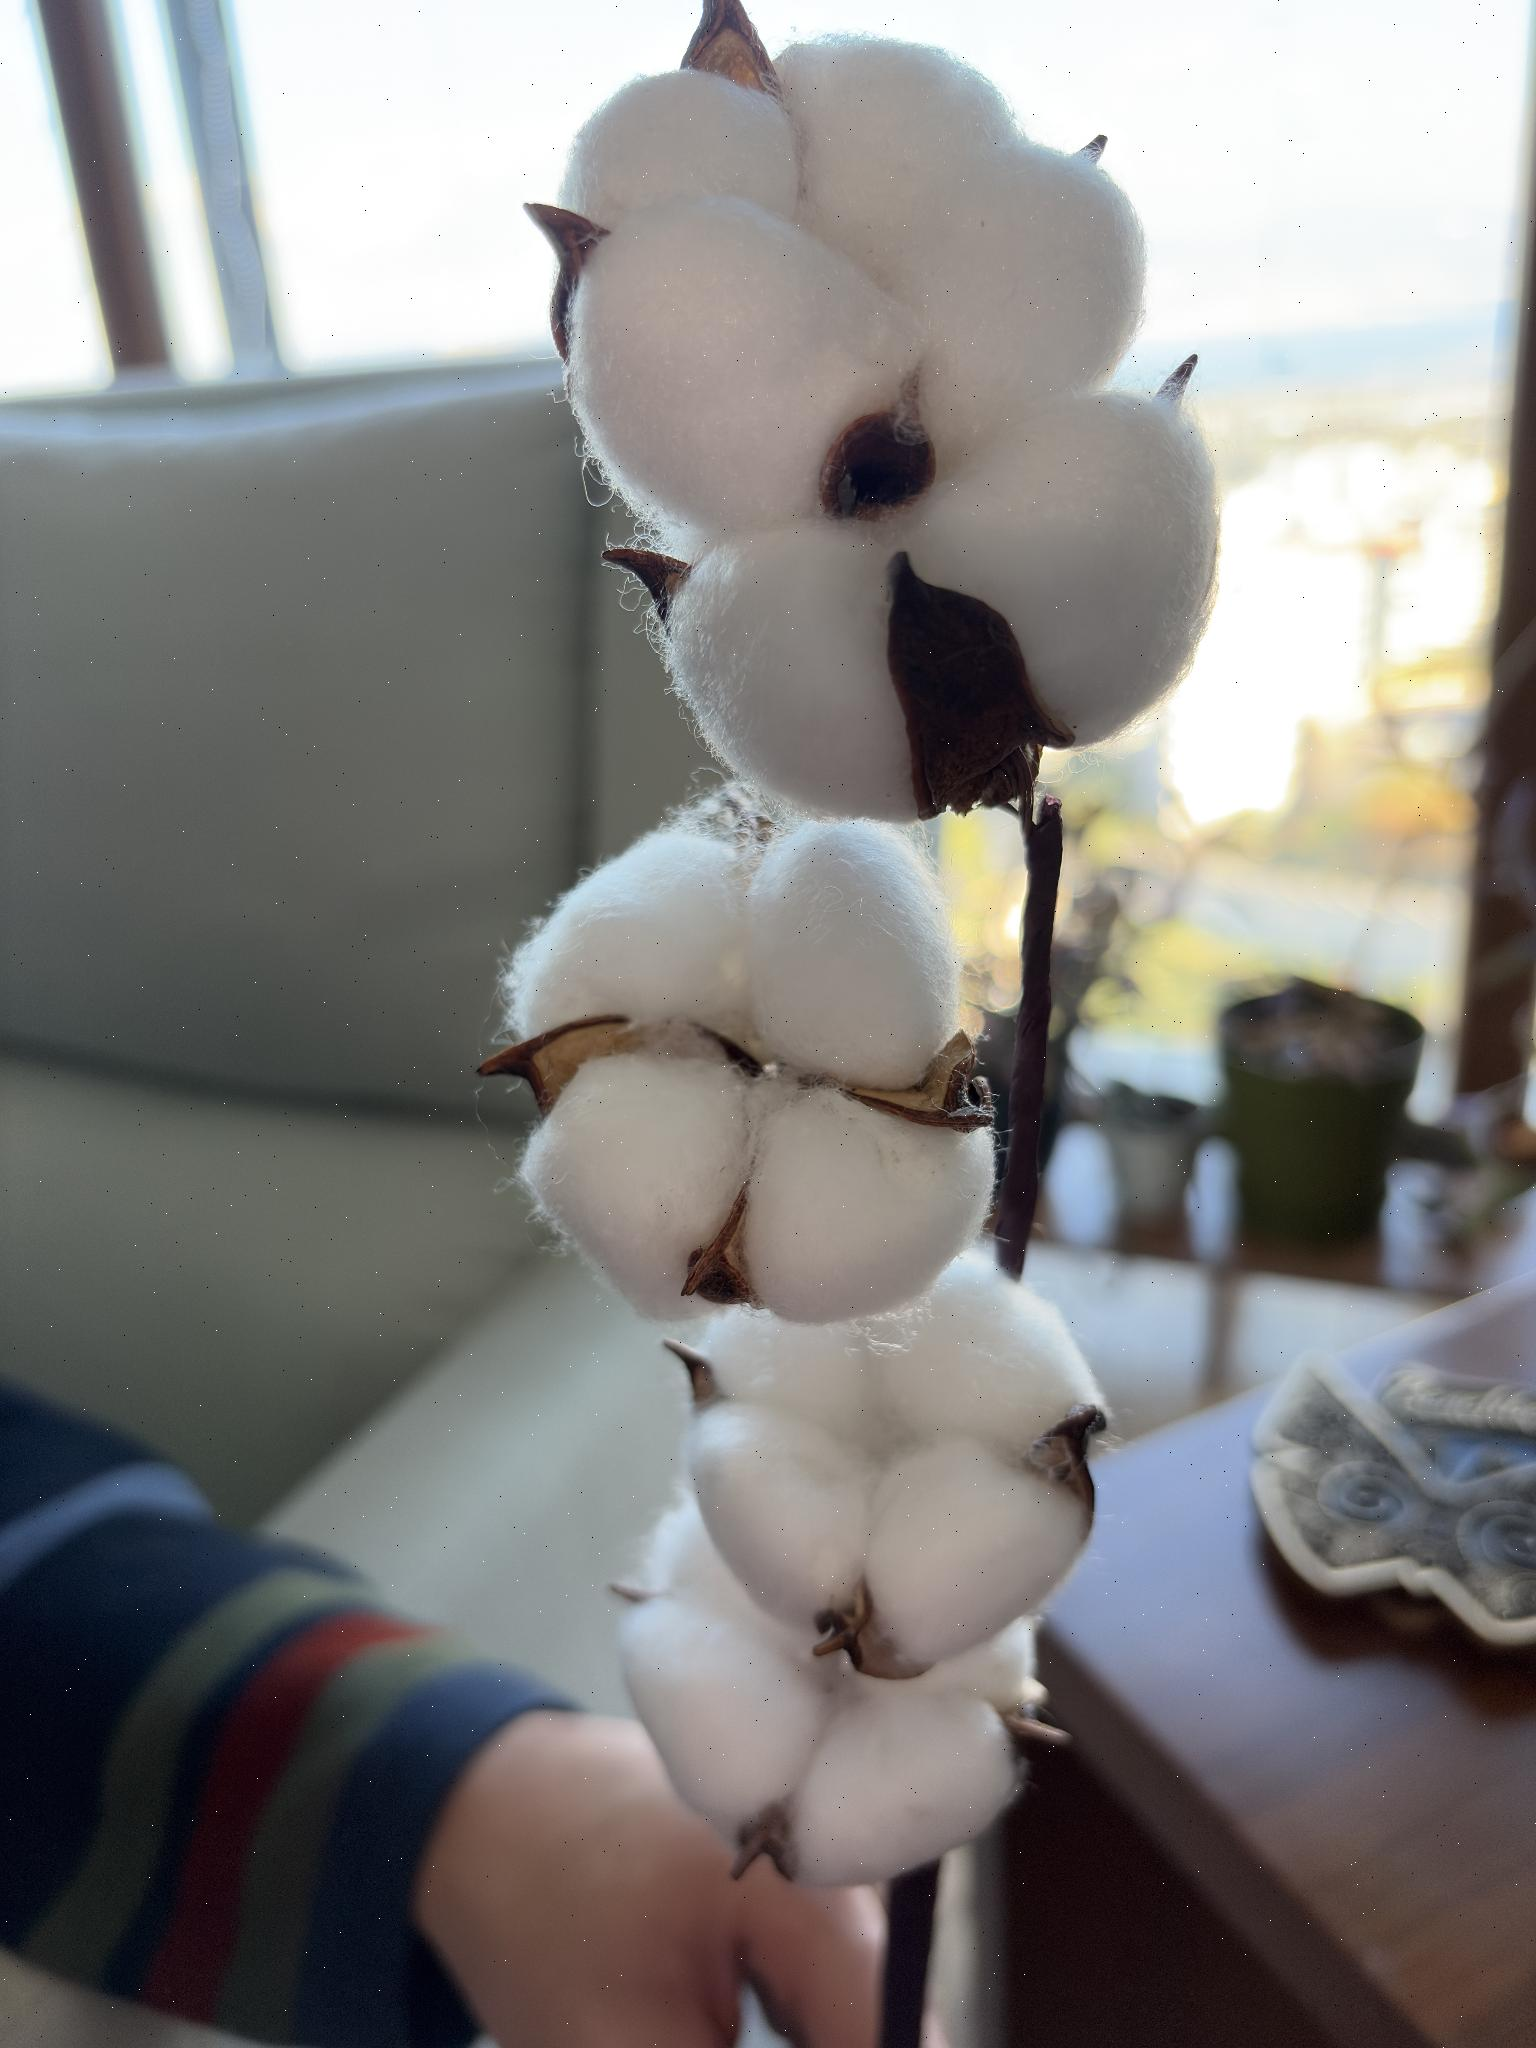cotton_boll: (570, 198, 916, 552), (907, 393, 1217, 743), (891, 140, 1144, 472), (665, 519, 918, 822), (620, 1503, 829, 1842), (523, 1055, 750, 1321), (776, 35, 1015, 289), (744, 1087, 992, 1322), (747, 821, 958, 1090), (866, 1437, 1089, 1663), (505, 830, 745, 1039), (795, 1677, 1020, 1885), (874, 1251, 1102, 1456), (686, 1400, 876, 1630), (558, 69, 799, 229), (699, 1308, 879, 1445), (902, 1617, 1044, 1713)
cotton_boll-cluster: (553, 27, 1262, 837), (487, 803, 1016, 1337), (671, 1242, 1118, 1687), (611, 1498, 1049, 1900)
